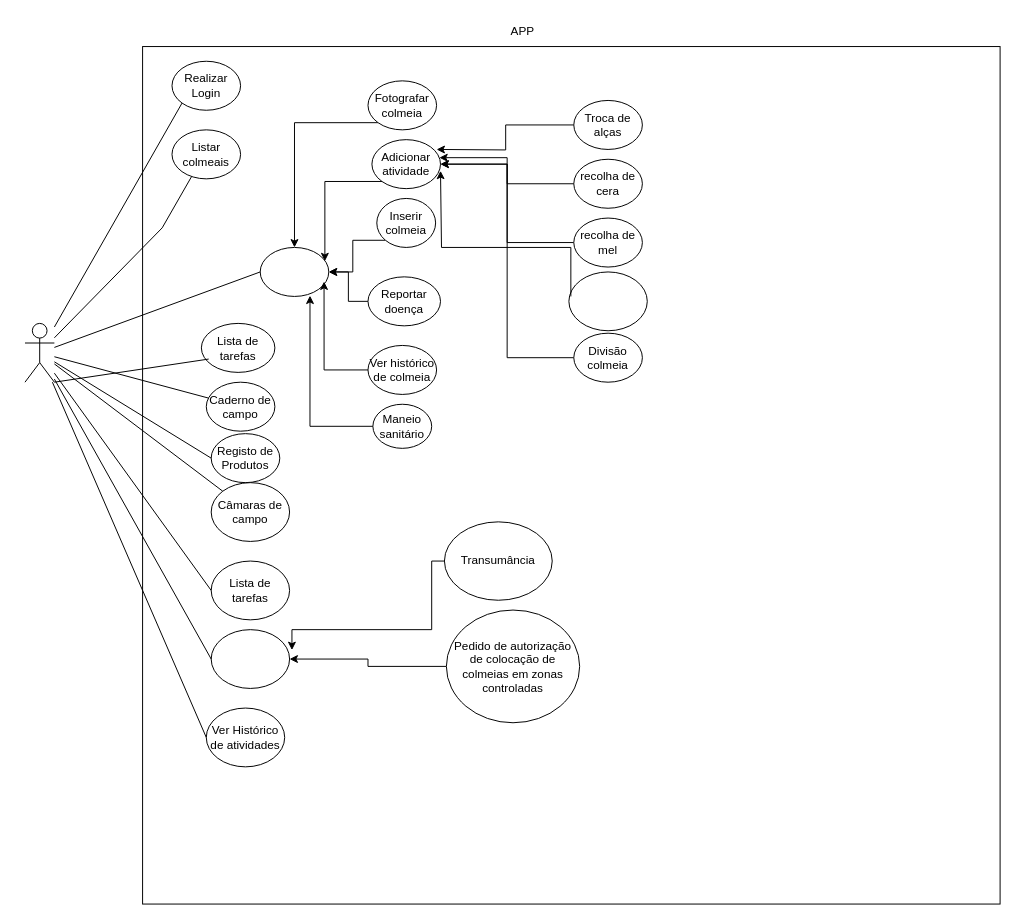
This 1017x921 diagram has some shape labels left out. The shapes that lost their labels are listed below. From the top down, each one's centre as x and y in pixels, then its label:
At point 294,271: "Gerir Colmeia".
At point 607,301: "manutenção da colmeia".
At point 39,352: "Apicultor".
At point 250,658: "Realizar Pedidos".
